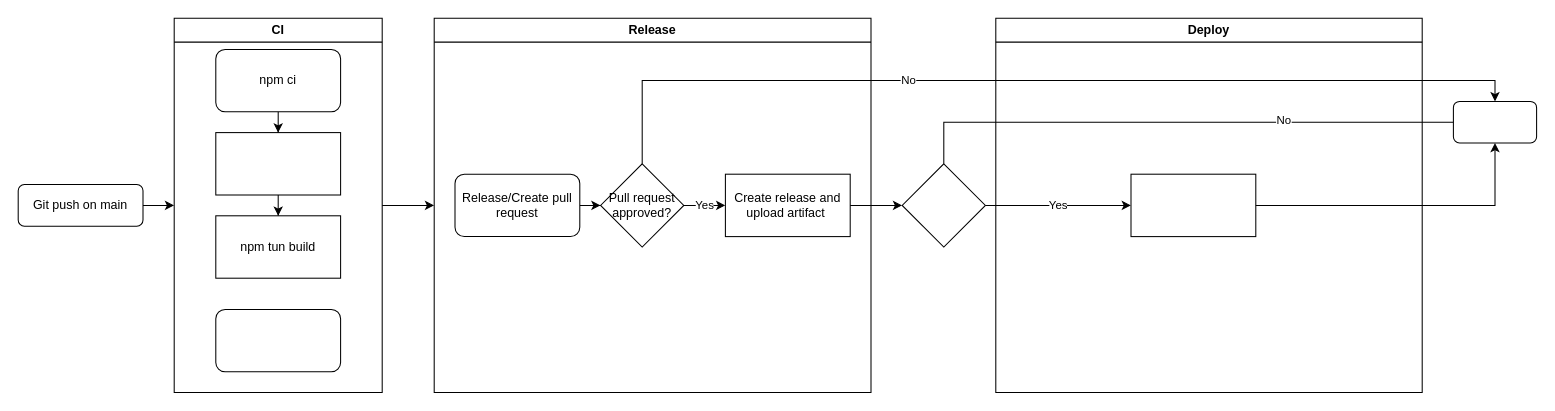
The diagram is 1555 pixels wide and 411 high, and some of its shapes have lost their labels. The shapes that lost their labels are listed below. From the top down, each one's centre as x and y in pixels, then its label:
point (1494, 121): Fim
point (278, 163): npm test
point (943, 205): admin approved deploy ?
point (1193, 205): Deploy into Github Pages
point (278, 340): npm run lint
